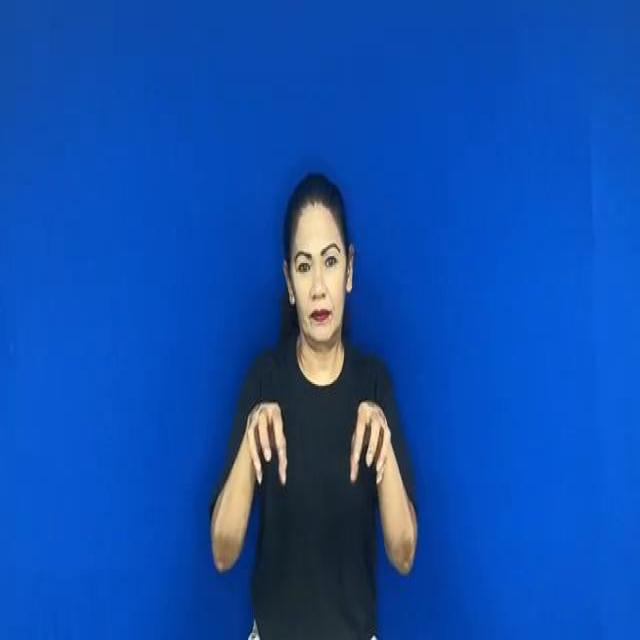egg: (240, 388, 394, 499)
